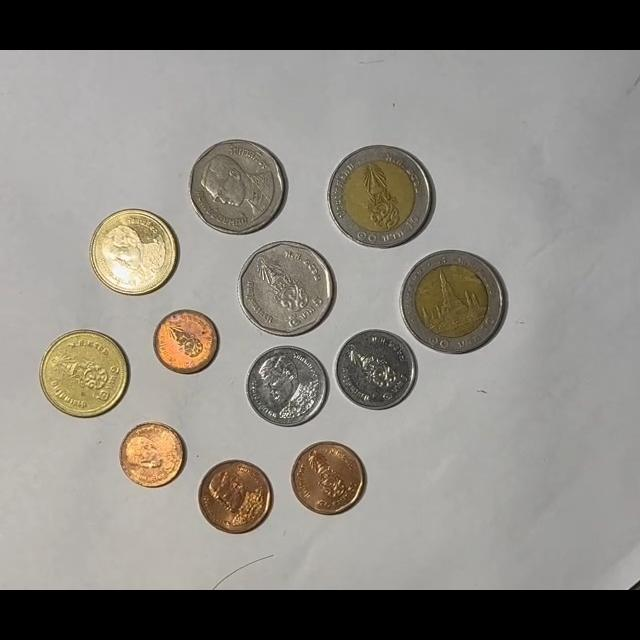1-baht: (244, 345, 327, 428), (334, 329, 417, 412)
10-baht: (400, 249, 507, 354), (326, 145, 433, 249)
2-baht: (39, 329, 129, 419), (89, 208, 177, 297)
25-satang: (118, 422, 187, 489), (153, 309, 220, 374)
5-baht: (237, 240, 335, 338), (189, 139, 287, 236)
50-satang: (197, 459, 273, 535), (291, 441, 366, 515)
